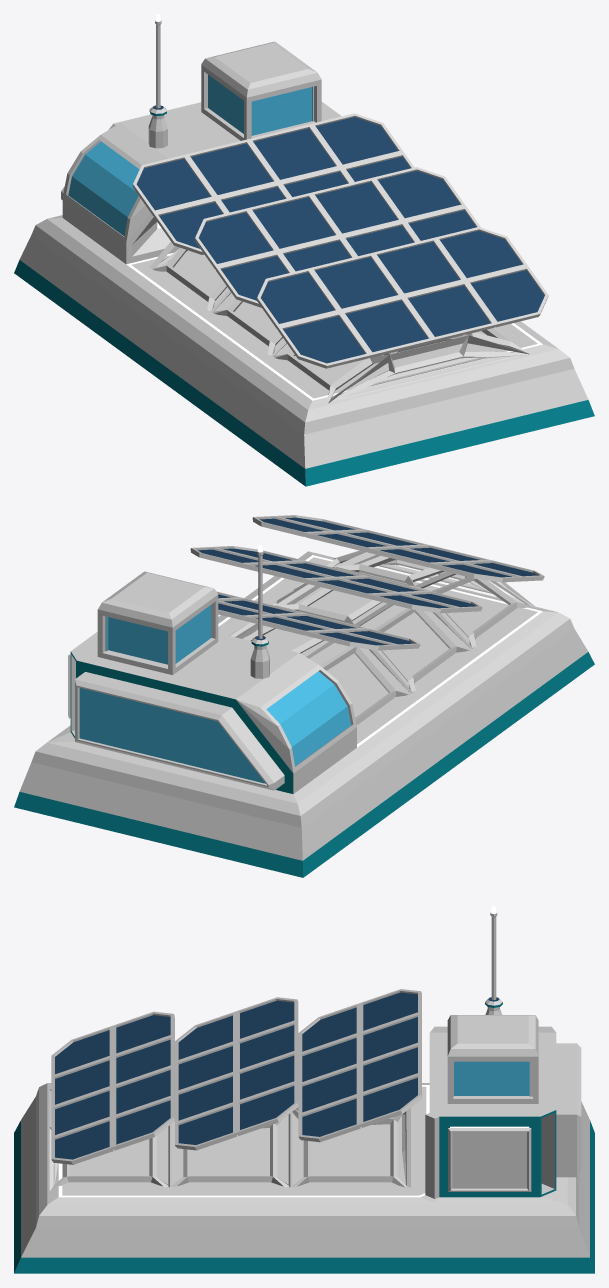
File: Solar Pelen module.fbx
3 views of the same model, one above another, from view 1: azimuth 30°, elevation 25°; view 2: azimuth 150°, elevation 25°; view 3: azimuth 270°, elevation 25° (orthographic).
Parts seen in each view (by area): view 1: Power Module; view 2: Power Module; view 3: Power Module.
Part boxes in pixels (x1,y1,x2,y2): Power Module: (14,14,594,486); Power Module: (14,515,594,877); Power Module: (14,906,594,1273).
Bounding box in the file's own units: 508 × 457 × 887.
